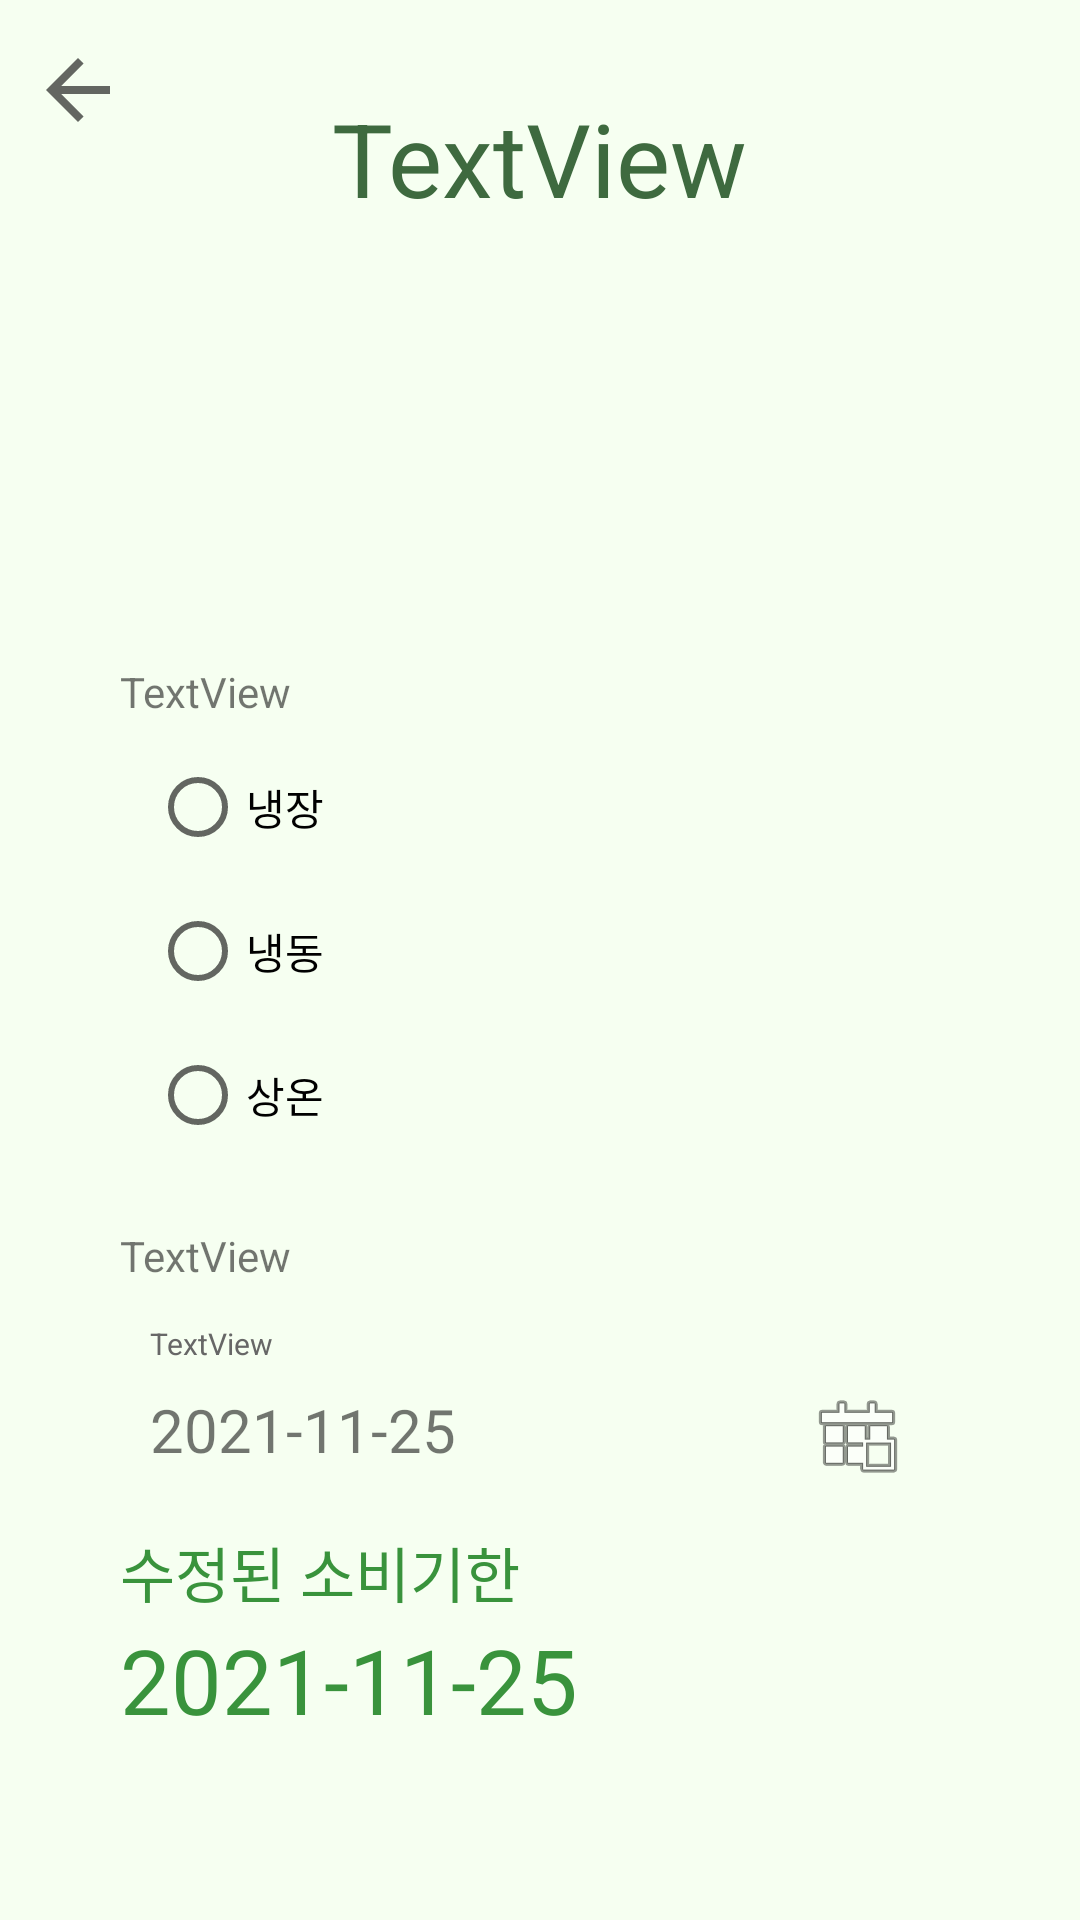

Screen size 1080 x 1920. Icon name, then its box in pixels as (x1, y1, x2, y2):
유통기한 마지막 날 선택: (819, 1400, 897, 1473)
